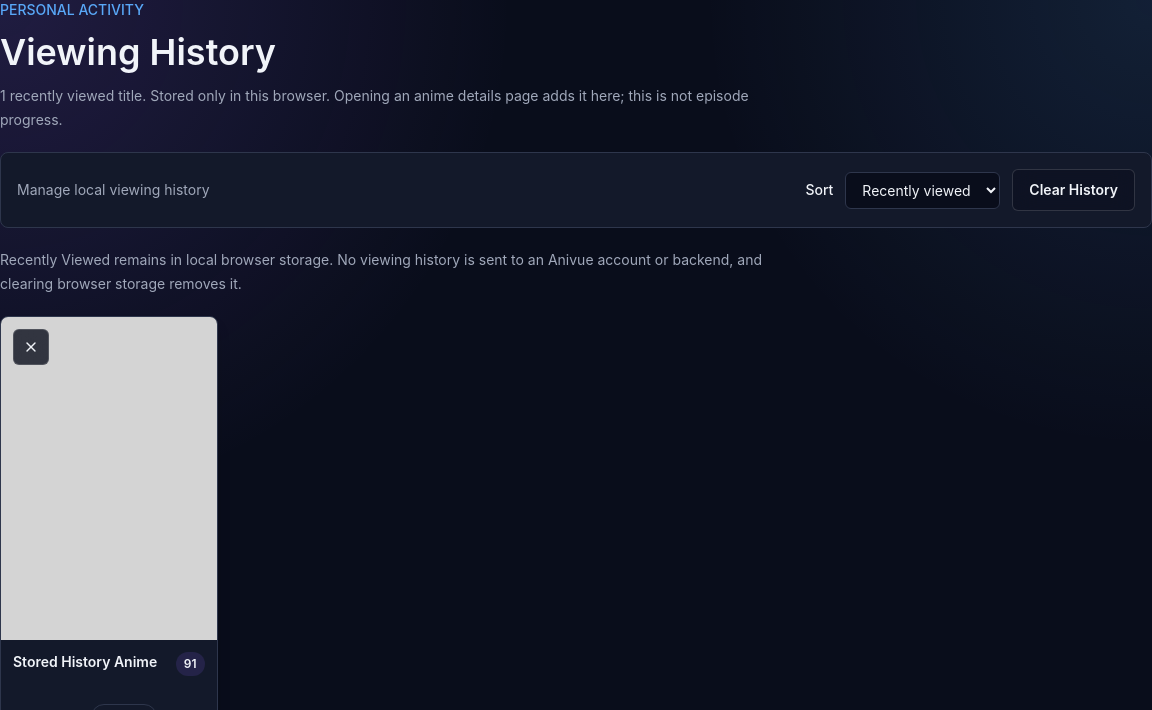
Test case: ViewingHistoryPage › clears history after confirmation
What coordinates should you click on to do the following:
click the button with aria-label "Clear viewing history"
I would click on:
 (1074, 190)
Its box is [1012,169,1135,211].
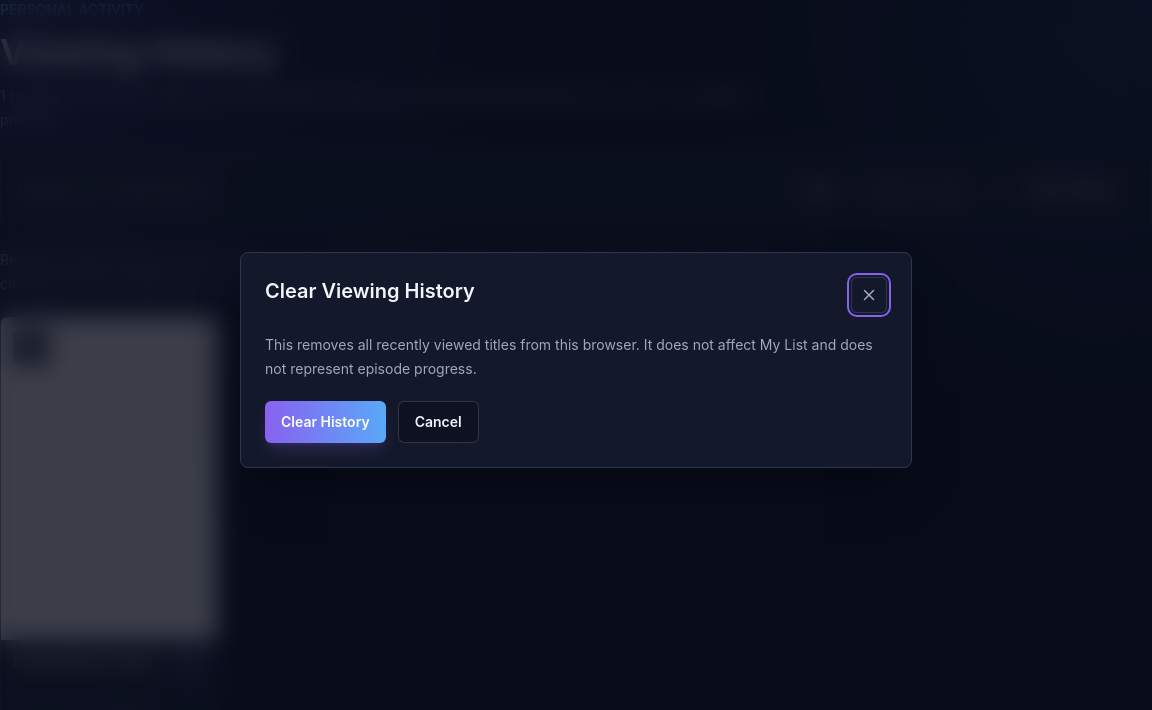
What coordinates should you click on to do the following:
click the button with aria-label "Confirm clear viewing history"
I would click on:
 (325, 422)
Its box is [265,401,386,443].
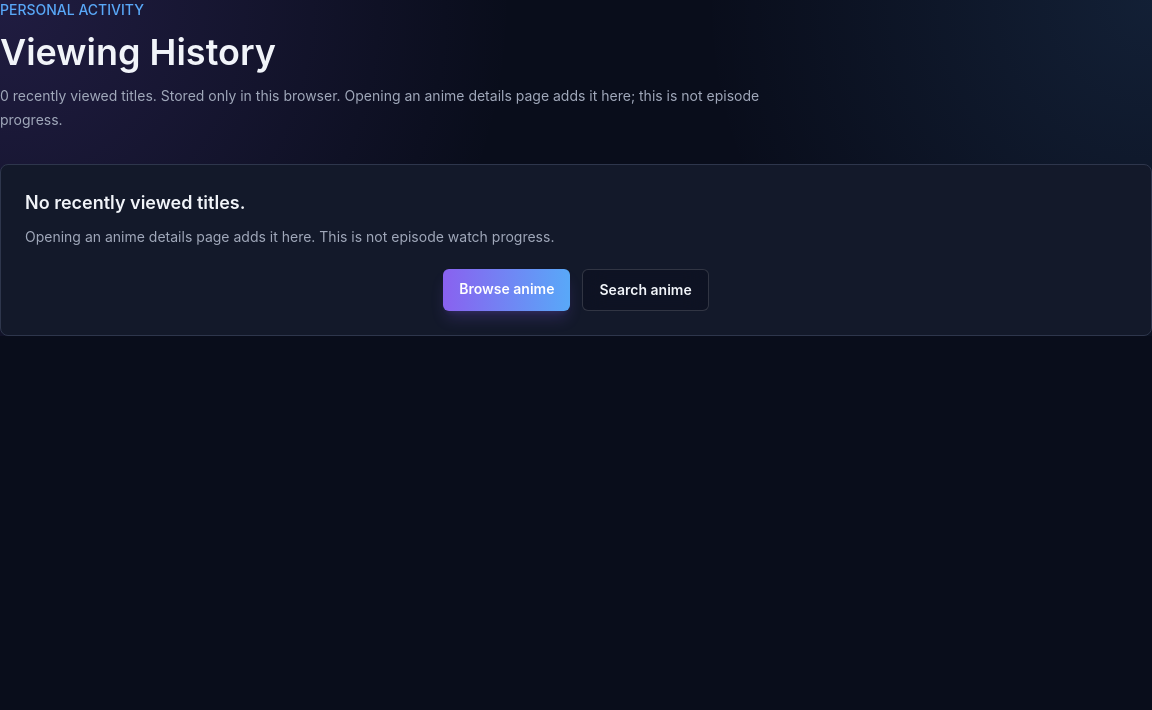
Check: the heading "No recently viewed titles." is shown, box [25,192,245,213]
